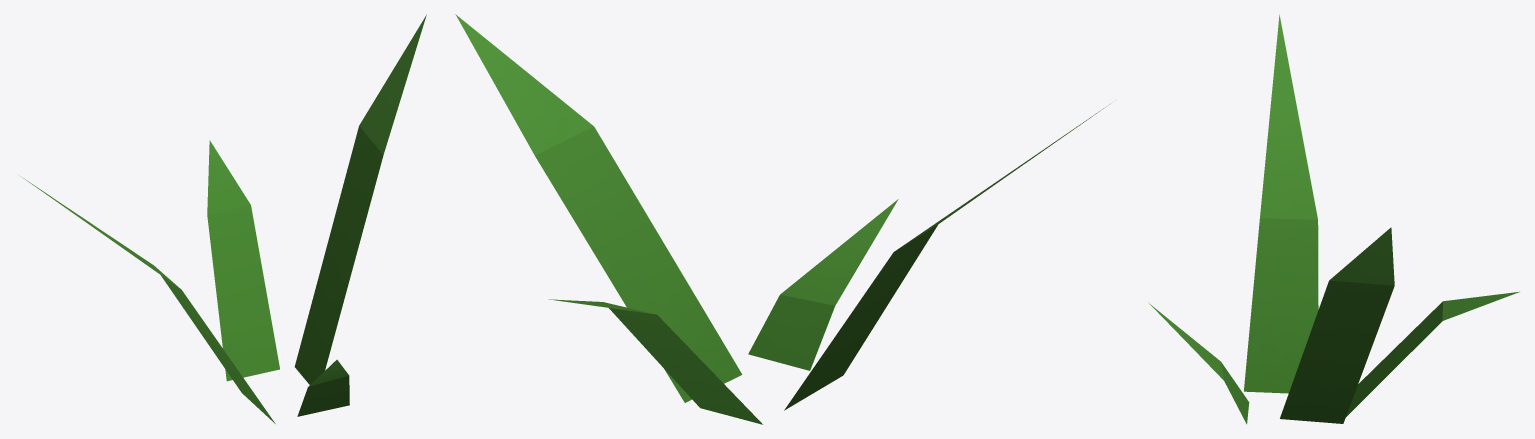
File: grass_patch_04_singlesided.fbx
The picture shows the model from 3 angles, left to right: view 1: azimuth 30°, elevation 25°; view 2: azimuth 150°, elevation 25°; view 3: azimuth 270°, elevation 25°; orthographic projection. The views are drawn at different scales.
Visible parts, largest first — view 1: grass_patch_04_singlesided; view 2: grass_patch_04_singlesided; view 3: grass_patch_04_singlesided.
Boxes of the visible parts, left/top/right/bottom form: grass_patch_04_singlesided: left=19, top=14, right=426, bottom=423; grass_patch_04_singlesided: left=455, top=14, right=1109, bottom=424; grass_patch_04_singlesided: left=1148, top=14, right=1519, bottom=424.
Size of the model in its own units: 1 by 0.6 by 0.75.
1 material, 1 textured.
